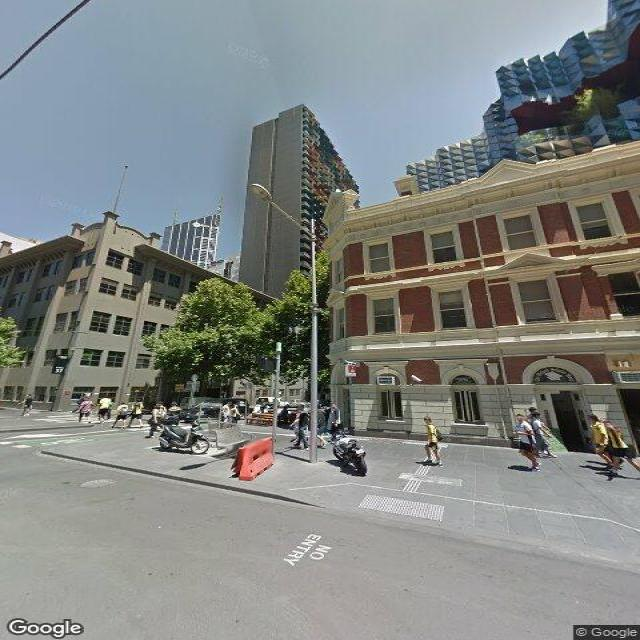steel-pole: (308, 217, 318, 464)
streetlight: (250, 183, 316, 238)
